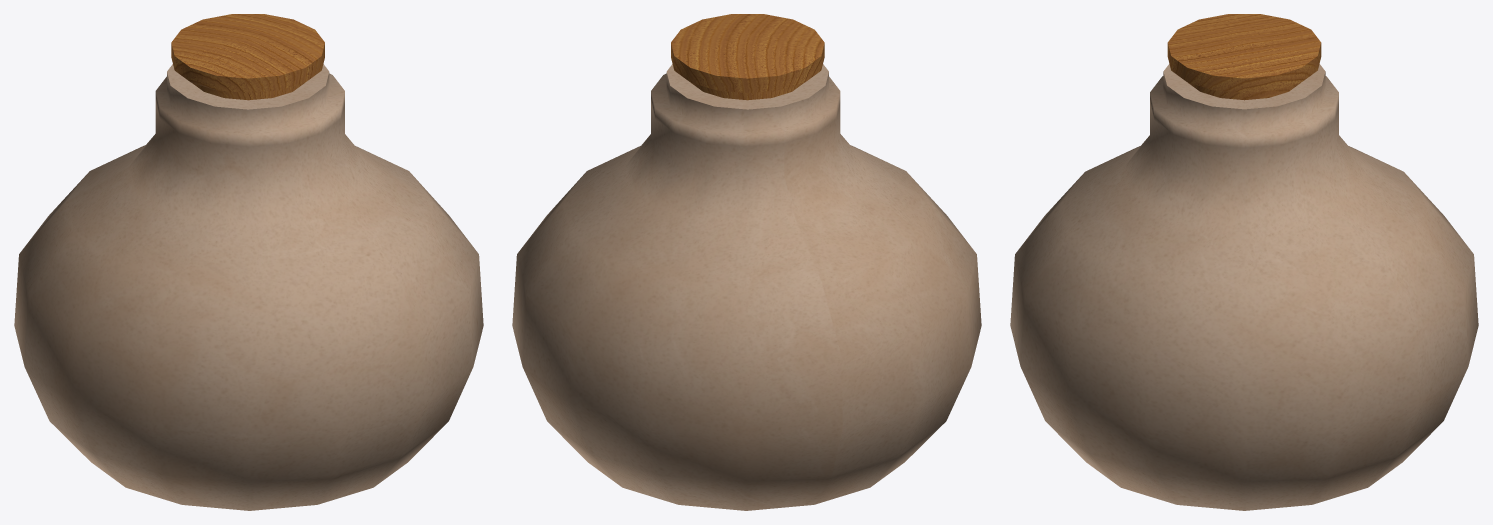
The model's file is Jar2.fbx.
The picture shows the model from 3 angles, left to right: view 1: azimuth 30°, elevation 25°; view 2: azimuth 150°, elevation 25°; view 3: azimuth 270°, elevation 25°; orthographic projection.
Parts seen in each view (by area): view 1: Jar2; view 2: Jar2; view 3: Jar2.
Boxes of the visible parts, x1,y1,x2,y2 form: Jar2: (14, 14, 483, 510); Jar2: (512, 14, 981, 510); Jar2: (1010, 14, 1478, 510).
Bounding box in the file's own units: 1.02 × 0.9696 × 1.03.
1 material, 1 textured.
